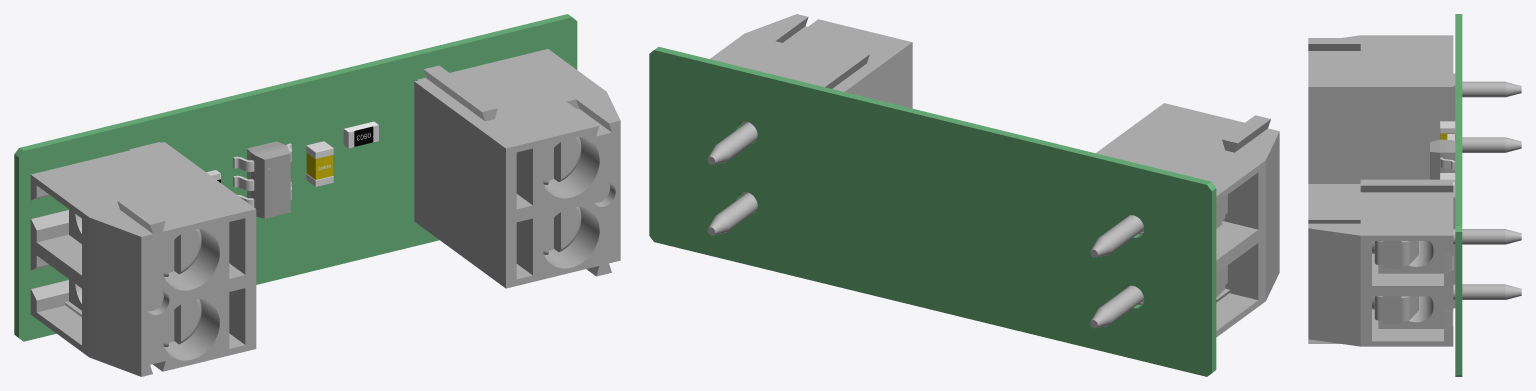
The model's file is pcb.gltf.
3 renders of one model, left to right at view 1: azimuth 30°, elevation 25°; view 2: azimuth 150°, elevation 25°; view 3: azimuth 270°, elevation 25°, orthographic. The views are drawn at different scales.
Visible parts, largest first — view 1: OSTTE020104--3DModel-STEP-56544_RGB8421504 (×6), Open CASCADE STEP translator 7.5 1.1.1, SOT23_DBV_TEX, Open CASCADE STEP translator 7.5 1.7.1.3; view 2: Open CASCADE STEP translator 7.5 1.1.1, OSTTE020104--3DModel-STEP-56544_RGB8421504 (×6); view 3: OSTTE020104--3DModel-STEP-56544_RGB8421504 (×8), Open CASCADE STEP translator 7.5 1.1.1, SOT23_DBV_TEX, Open CASCADE STEP translator 7.5 1.7.1.3.
Part boxes in pixels (left/top/right/bottom): OSTTE020104--3DModel-STEP-56544_RGB8421504 (×6): left=30, top=49, right=620, bottom=376; Open CASCADE STEP translator 7.5 1.1.1: left=14, top=14, right=577, bottom=341; SOT23_DBV_TEX: left=247, top=141, right=290, bottom=218; Open CASCADE STEP translator 7.5 1.7.1.3: left=306, top=141, right=333, bottom=186; Open CASCADE STEP translator 7.5 1.1.1: left=649, top=47, right=1216, bottom=376; OSTTE020104--3DModel-STEP-56544_RGB8421504 (×6): left=707, top=14, right=1279, bottom=337; OSTTE020104--3DModel-STEP-56544_RGB8421504 (×8): left=1308, top=35, right=1521, bottom=346; Open CASCADE STEP translator 7.5 1.1.1: left=1455, top=14, right=1462, bottom=376; SOT23_DBV_TEX: left=1430, top=139, right=1455, bottom=179; Open CASCADE STEP translator 7.5 1.7.1.3: left=1440, top=121, right=1455, bottom=139.
Bounding box in the file's own units: 0.0292 × 0.00953 × 0.0122.
